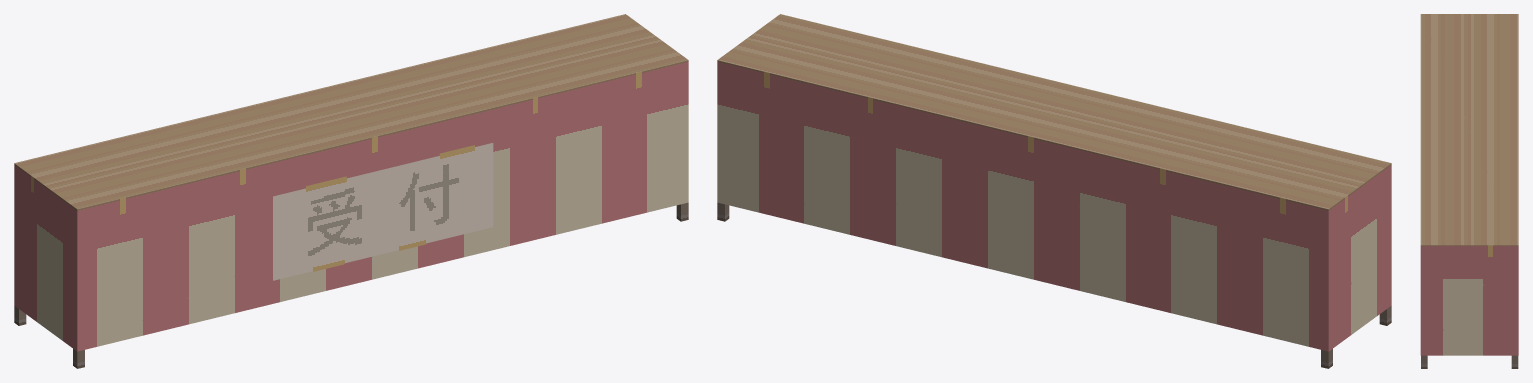
The model's file is 00d0_Matsuri_Table.glb.
The picture shows the model from 3 angles, left to right: view 1: azimuth 30°, elevation 25°; view 2: azimuth 150°, elevation 25°; view 3: azimuth 270°, elevation 25°; orthographic projection. The views are drawn at different scales.
Parts seen in each view (by area): view 1: part_0; view 2: part_0; view 3: part_0.
Part boxes in pixels (x1,y1,x2,y2): part_0: [14, 14, 688, 368]; part_0: [717, 14, 1391, 368]; part_0: [1420, 14, 1518, 368].
Bounding box in the file's own units: 3.21 × 0.8002 × 0.5752.
1 material, 1 textured.
